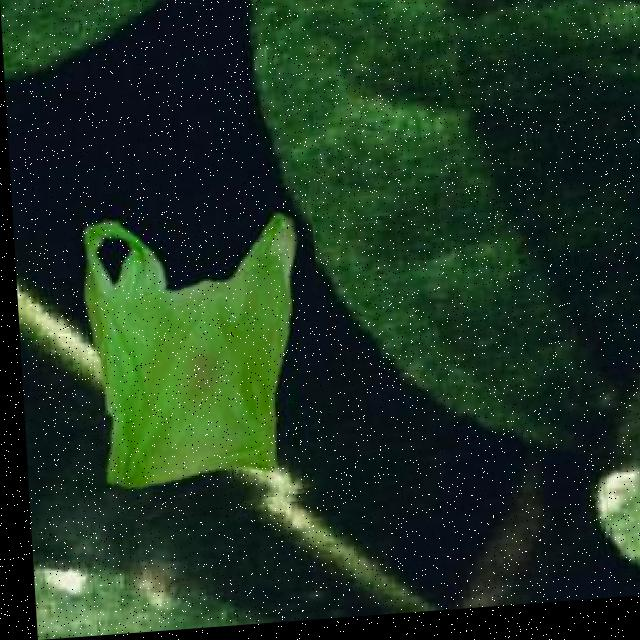litter: (62, 181, 323, 523)
